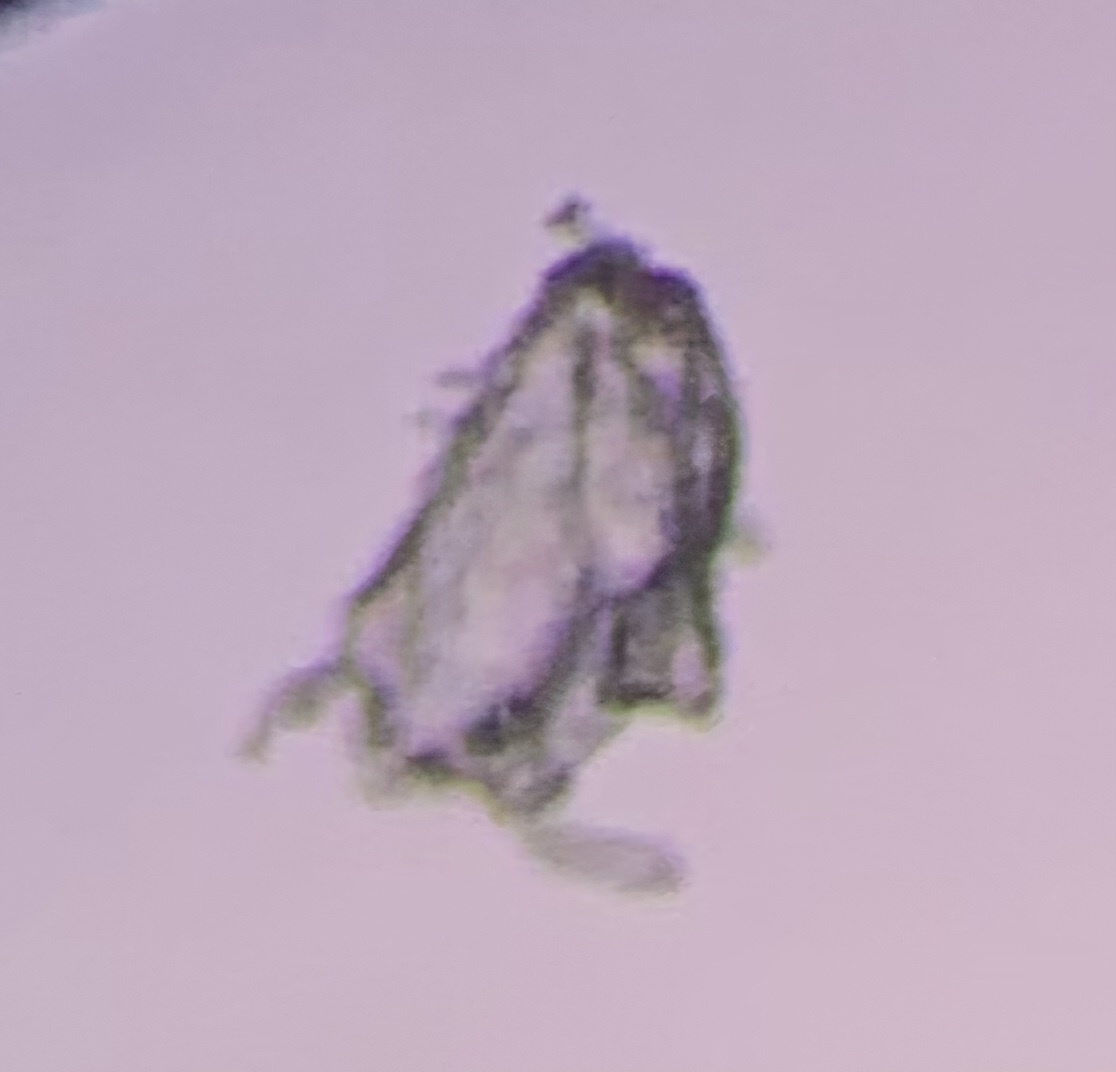microplastic: (231, 188, 782, 908)
